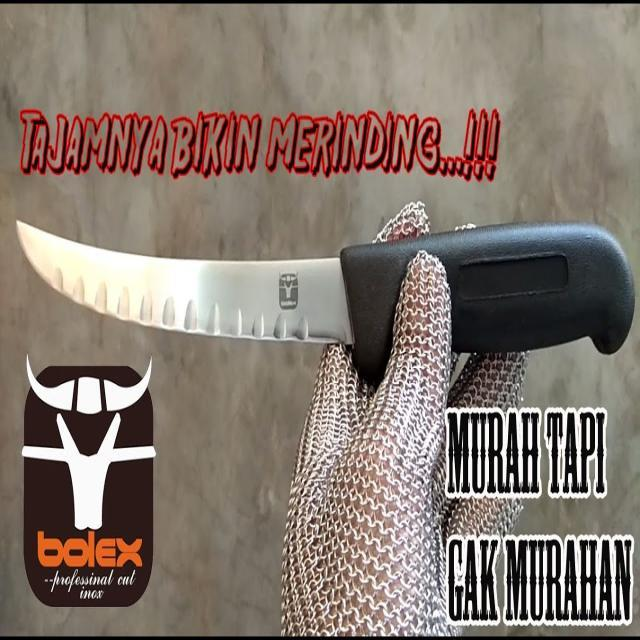Pisau: (14, 209, 640, 377)
